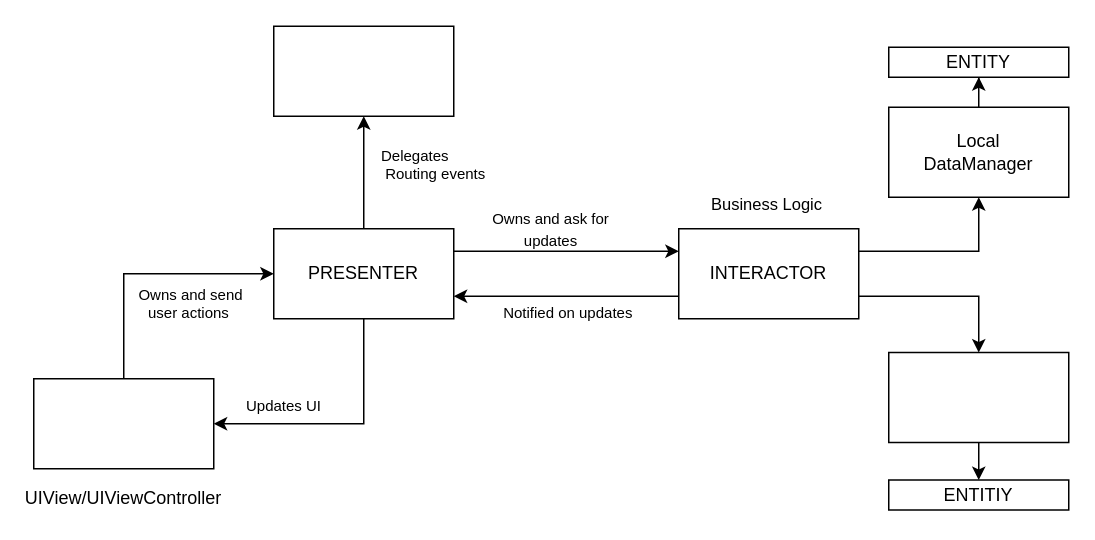
The diagram is 1095 pixels wide and 540 high, and some of its shapes have lost their labels. The shapes that lost their labels are listed below. From the top down, each one's box as (x1, y1, x2, y2) in pixels, then its label:
(272, 25, 454, 116): ROUTER
(887, 351, 1069, 442): Remote DataManager
(32, 377, 214, 469): VIEW
